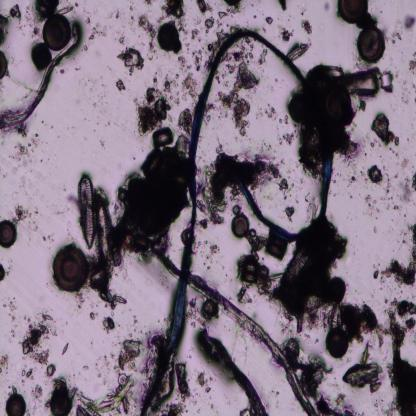Background material: (112, 131, 193, 257), (266, 218, 349, 340), (294, 63, 368, 179), (212, 138, 281, 198), (214, 62, 260, 136), (195, 151, 236, 232), (385, 310, 416, 416), (73, 369, 137, 416), (340, 342, 384, 392), (338, 301, 384, 346), (134, 84, 172, 138), (89, 253, 120, 309), (137, 329, 162, 394), (371, 259, 416, 290), (110, 332, 142, 372), (20, 321, 49, 360), (385, 295, 416, 331), (315, 389, 356, 416), (303, 354, 330, 395), (372, 111, 402, 147), (174, 358, 192, 403), (258, 263, 278, 302), (379, 168, 398, 209), (139, 11, 157, 54), (184, 296, 207, 328), (285, 335, 306, 370), (31, 0, 63, 22), (10, 139, 34, 168), (197, 237, 219, 268), (157, 0, 185, 23), (160, 393, 187, 416), (368, 394, 396, 416), (124, 46, 145, 74), (182, 72, 199, 104), (176, 104, 193, 134), (11, 202, 31, 227), (214, 60, 235, 83), (236, 282, 256, 306), (367, 164, 385, 190), (231, 47, 256, 65), (208, 30, 228, 52), (399, 175, 413, 206), (389, 18, 405, 44), (304, 192, 316, 224), (88, 22, 106, 43), (28, 383, 44, 406), (380, 68, 394, 94), (0, 13, 12, 43), (72, 290, 88, 312), (29, 350, 50, 366), (262, 102, 278, 123), (365, 195, 379, 219), (250, 232, 264, 256), (190, 49, 203, 74), (8, 2, 23, 23), (408, 223, 416, 262), (279, 180, 296, 198), (277, 130, 294, 146), (204, 51, 217, 71), (225, 2, 243, 16), (280, 27, 294, 42), (199, 371, 213, 386), (205, 104, 215, 125), (400, 84, 410, 104), (258, 46, 268, 66), (65, 228, 76, 246), (28, 25, 41, 40), (16, 123, 29, 138), (100, 317, 115, 330), (177, 57, 190, 72), (204, 14, 214, 33), (302, 18, 312, 37), (286, 203, 296, 222), (406, 14, 416, 32), (115, 79, 127, 93), (408, 50, 416, 71), (67, 194, 78, 209), (164, 75, 172, 95), (0, 354, 9, 370), (6, 383, 18, 395), (31, 132, 40, 148), (242, 40, 254, 52), (276, 0, 288, 12), (196, 0, 207, 13), (191, 26, 201, 40), (177, 19, 187, 33), (21, 368, 33, 379), (41, 311, 53, 322), (356, 100, 367, 112), (171, 74, 181, 87), (47, 363, 56, 377), (128, 16, 136, 31), (411, 172, 416, 196), (402, 156, 412, 168), (103, 353, 110, 368), (348, 176, 358, 186), (214, 17, 223, 28), (300, 2, 307, 16), (8, 301, 16, 313), (389, 147, 399, 156), (50, 325, 57, 337), (184, 40, 190, 54), (152, 72, 158, 86), (392, 203, 401, 212), (44, 398, 52, 408), (8, 312, 16, 322), (90, 308, 96, 321), (175, 90, 180, 105), (89, 82, 95, 94), (218, 10, 227, 18), (230, 25, 239, 33), (132, 314, 138, 326), (280, 116, 289, 124), (202, 386, 212, 393), (206, 2, 213, 12), (279, 157, 286, 166), (85, 17, 92, 26), (9, 328, 15, 338), (100, 139, 106, 149), (196, 14, 202, 24), (268, 16, 274, 26), (120, 35, 126, 45), (96, 371, 103, 379), (18, 181, 26, 188), (51, 211, 65, 215), (48, 233, 54, 242), (325, 3, 331, 12), (168, 112, 173, 122), (127, 5, 134, 12), (86, 74, 92, 82), (143, 0, 151, 6), (148, 53, 154, 61), (400, 239, 408, 245), (116, 7, 120, 19), (27, 316, 33, 324), (33, 225, 39, 232), (83, 45, 89, 52), (0, 166, 5, 174), (108, 11, 113, 19), (370, 140, 375, 148), (34, 205, 38, 215), (58, 68, 64, 74), (374, 226, 378, 235), (74, 1, 80, 7), (5, 269, 10, 276), (75, 66, 82, 71), (402, 230, 407, 237), (159, 67, 162, 78), (83, 365, 88, 371), (26, 407, 29, 416), (82, 135, 87, 140), (82, 116, 87, 121), (21, 378, 25, 384), (42, 235, 46, 241), (93, 102, 96, 109), (66, 126, 70, 131), (0, 140, 4, 145), (14, 190, 19, 194), (276, 391, 280, 396), (8, 266, 12, 270), (30, 376, 34, 380), (253, 15, 257, 19), (100, 96, 104, 100), (2, 304, 6, 308), (23, 315, 26, 320), (40, 158, 43, 162), (0, 367, 2, 373), (56, 135, 60, 138), (50, 125, 53, 129), (3, 175, 6, 179), (188, 355, 192, 358), (108, 121, 110, 126), (30, 169, 33, 172), (1, 136, 5, 138), (102, 83, 104, 87), (64, 188, 66, 192), (13, 296, 15, 300), (227, 24, 229, 28), (46, 281, 48, 285), (93, 129, 96, 131), (251, 4, 254, 6), (48, 158, 50, 160), (41, 121, 43, 123)
Cellulose filter fibre: (157, 248, 313, 416), (0, 20, 81, 131), (198, 330, 268, 416)
Cotton: (140, 26, 334, 416)
Diatom: (93, 186, 117, 268), (52, 244, 89, 293), (335, 65, 382, 98), (76, 174, 96, 249), (322, 82, 356, 120), (41, 12, 73, 52), (356, 28, 386, 64), (280, 249, 308, 287), (286, 90, 312, 124), (325, 326, 349, 359), (337, 0, 369, 23), (156, 22, 180, 52), (50, 387, 74, 416), (31, 42, 54, 70), (265, 232, 287, 260), (0, 219, 19, 250), (327, 275, 348, 302), (5, 393, 27, 416), (240, 257, 258, 284), (152, 126, 173, 148), (230, 213, 249, 237), (286, 42, 309, 59), (203, 296, 219, 320), (329, 302, 341, 329), (180, 228, 194, 246), (0, 48, 7, 80), (57, 5, 73, 13), (118, 374, 128, 386), (0, 264, 6, 282), (115, 296, 127, 304), (224, 0, 242, 5), (62, 342, 68, 356), (116, 53, 132, 58), (233, 204, 240, 215)
